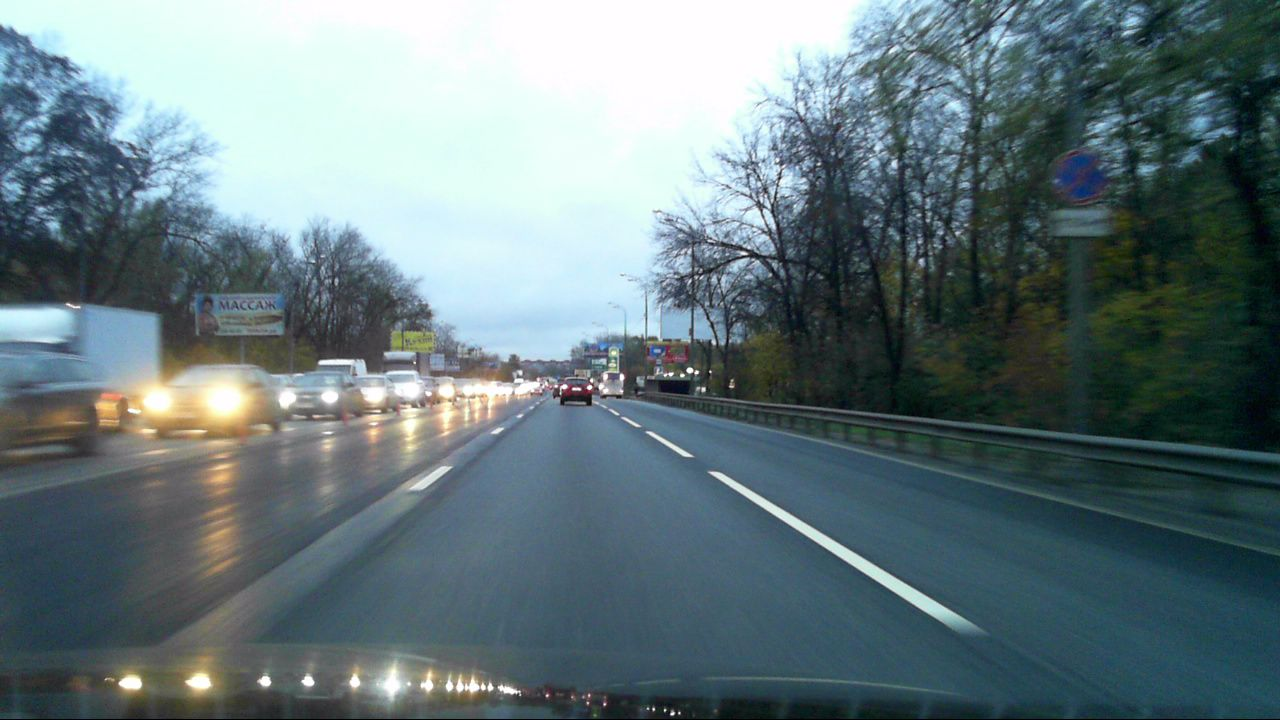No Parking: (1051, 148, 1106, 203)
